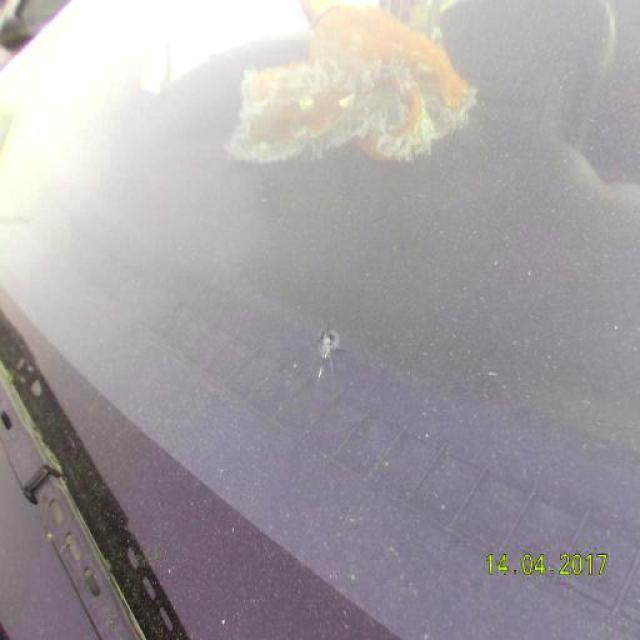Car-Damage: (308, 318, 348, 372)
